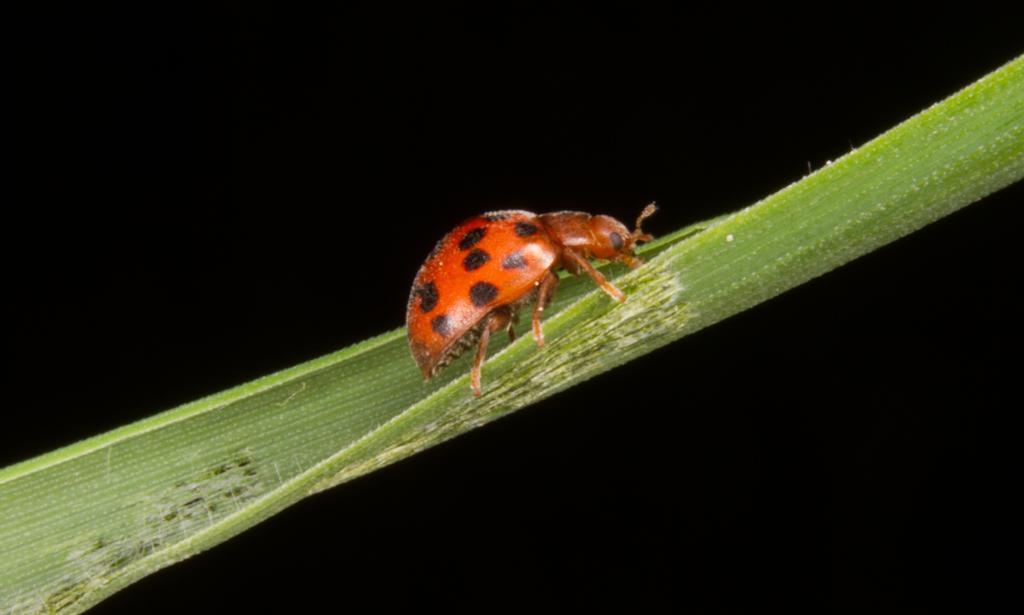ladybug: (404, 201, 664, 401)
